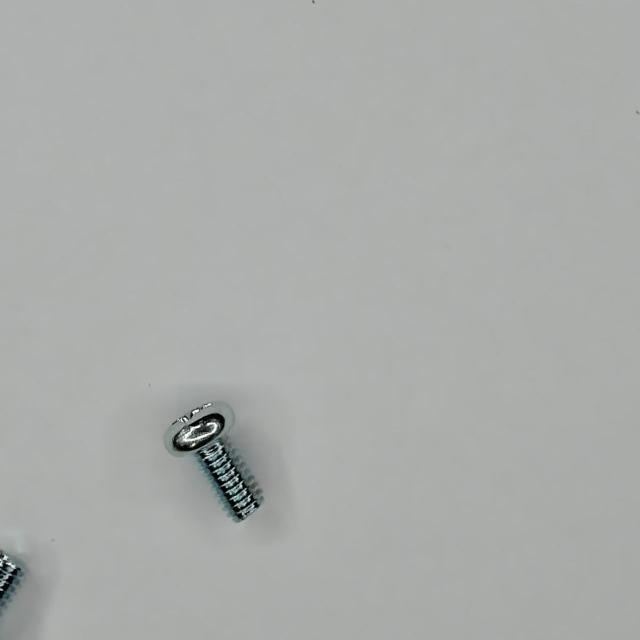Screw: (165, 403, 263, 523), (0, 552, 21, 602)
